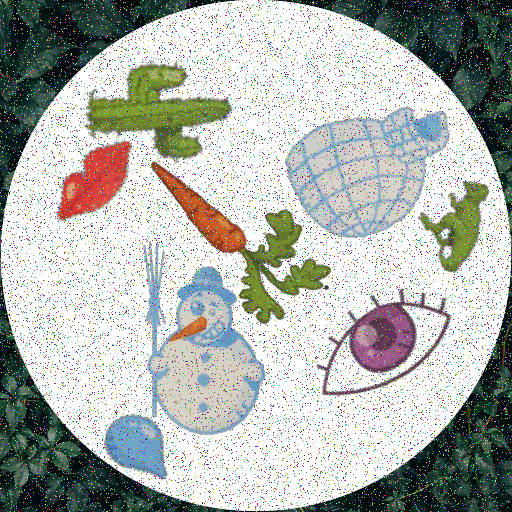cactus_icon: (78, 31, 233, 186)
carrot_icon: (140, 157, 334, 351)
dino_icon: (418, 181, 511, 274)
eye_icon: (306, 269, 460, 423)
igloo_icon: (285, 71, 463, 249)
lips_icon: (47, 134, 150, 237)
raindrop_icon: (100, 410, 178, 488)
snowman_icon: (87, 240, 285, 438)
